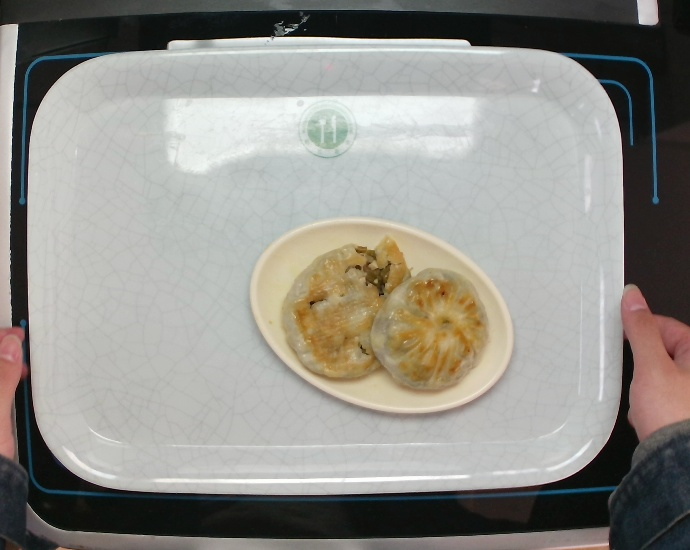JYsf-Tuo_Yuan_Wan: (249, 212, 520, 413)
